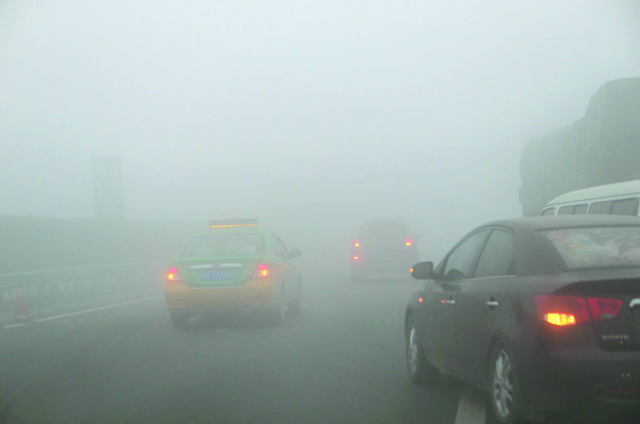car: (402, 216, 639, 424), (163, 218, 306, 327), (526, 178, 640, 303), (350, 217, 424, 281)
